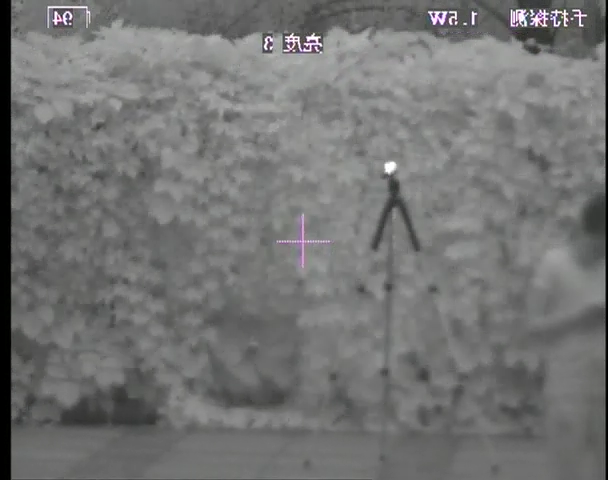my: (381, 160, 397, 176)
